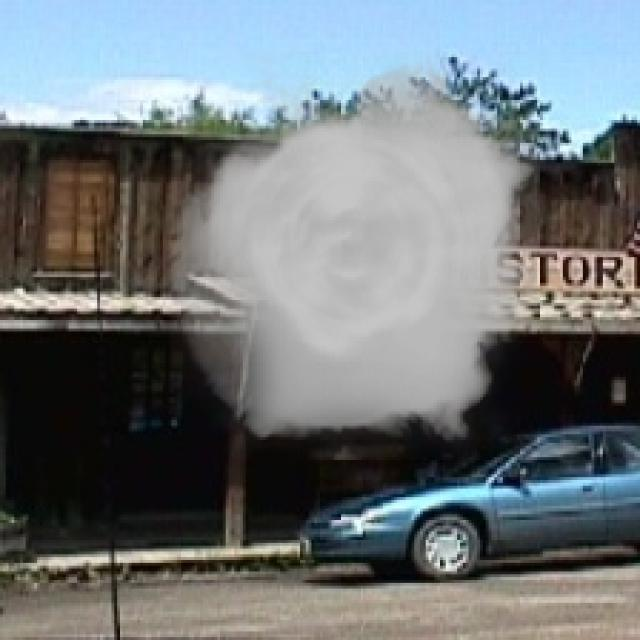Smoke: (168, 51, 540, 460)
